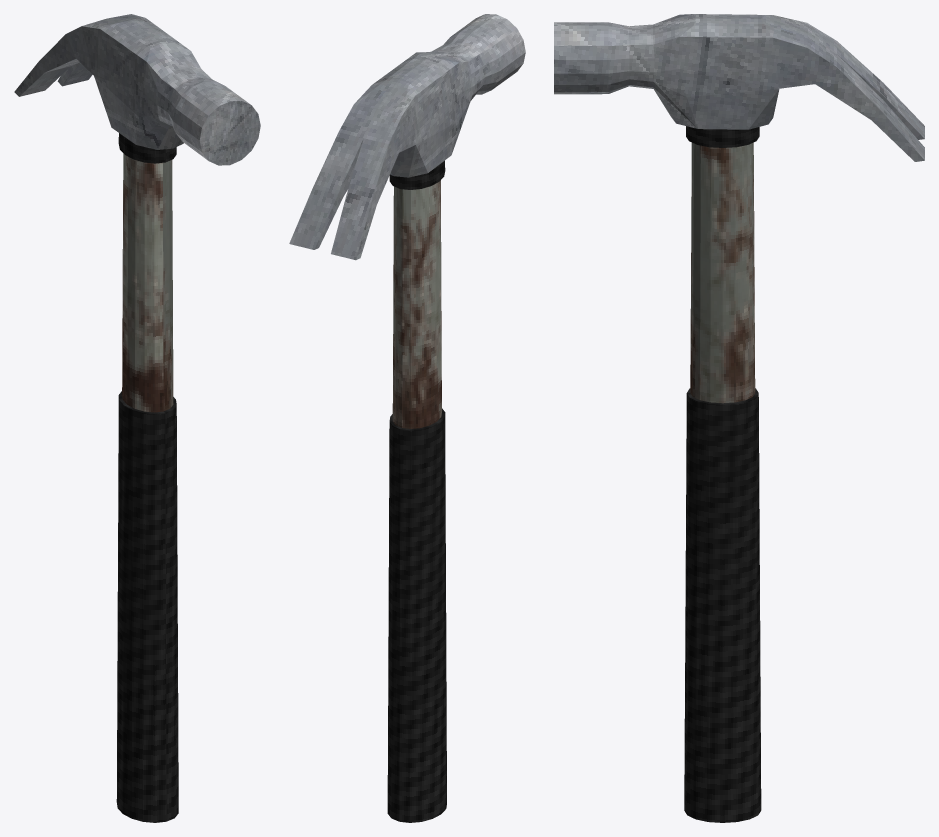
Rendered from hammer.glb.
3 views of the same model, side by side, from view 1: azimuth 30°, elevation 25°; view 2: azimuth 150°, elevation 25°; view 3: azimuth 270°, elevation 25° (orthographic). The views are drawn at different scales.
Visible parts, largest first — view 1: Cylinder.001, Cube; view 2: Cylinder.001, Cube; view 3: Cylinder.001, Cube.
Part boxes in pixels (box(x1,y1,x2,y2)): Cylinder.001: box(116, 133, 178, 822); Cube: box(14, 14, 260, 165); Cylinder.001: box(387, 160, 446, 822); Cube: box(289, 14, 525, 260); Cylinder.001: box(684, 126, 761, 822); Cube: box(554, 14, 924, 161).
Bounding box in the file's own units: 1.63 × 17.32 × 7.35.
2 materials, 2 textured.
